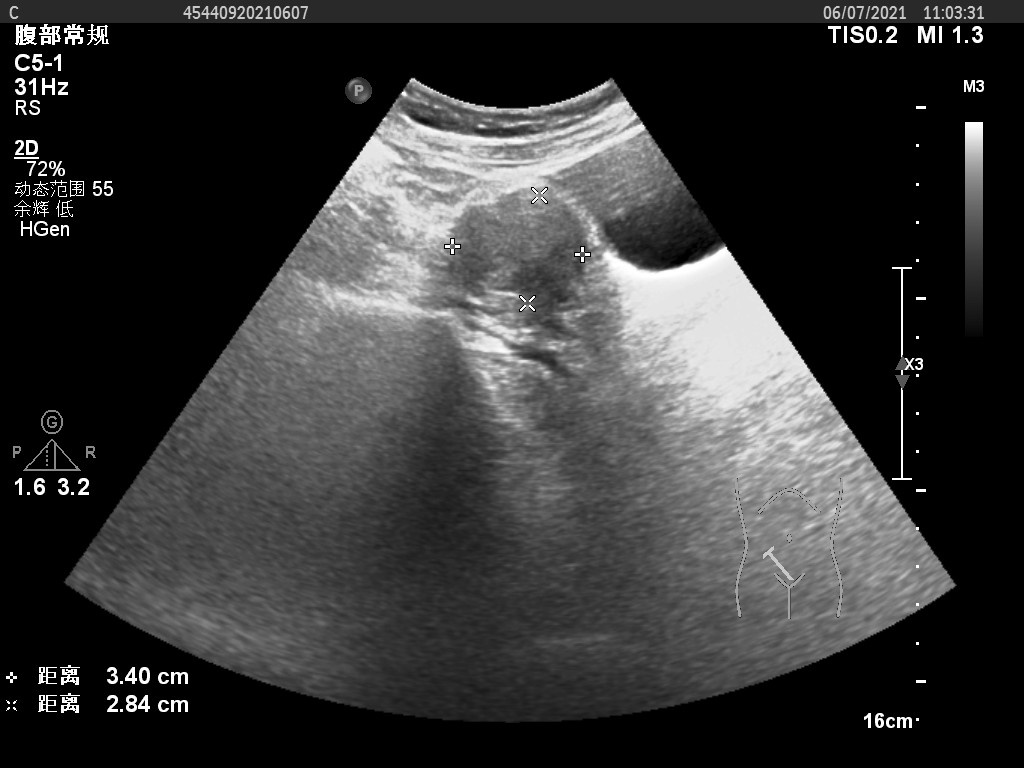肌瘤: (453, 197, 581, 302)
